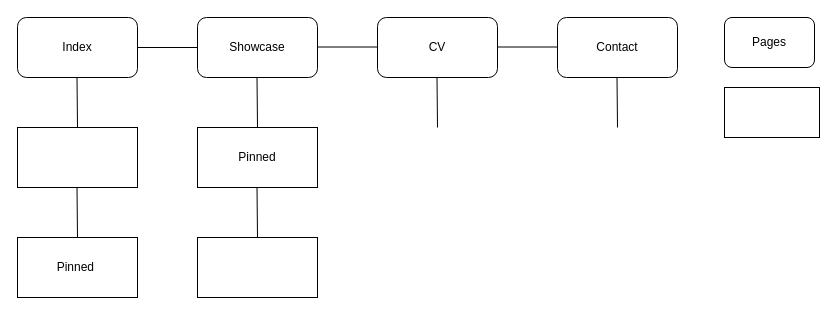
This 837x315 diagram has some shape labels left out. Here are the shapes that lost their labels. From the top down, the centre of each, then its label:
At (x=772, y=112): "Content".
At (x=77, y=157): "About me - journey into tech?".
At (x=257, y=267): "Filter".
